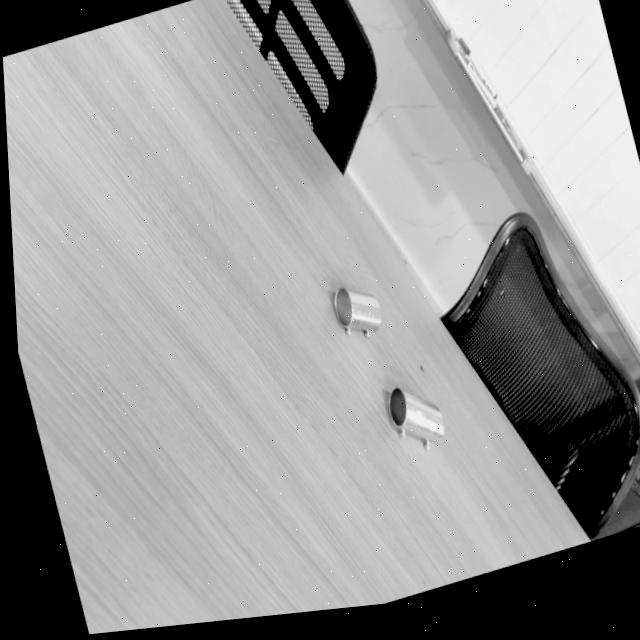Co_Lon: (375, 384, 454, 452)
Co_Nho: (327, 286, 386, 339)
